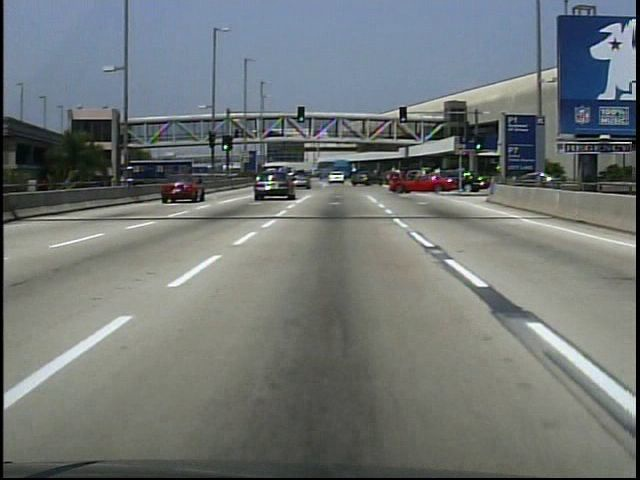person: (234, 129, 240, 142)
